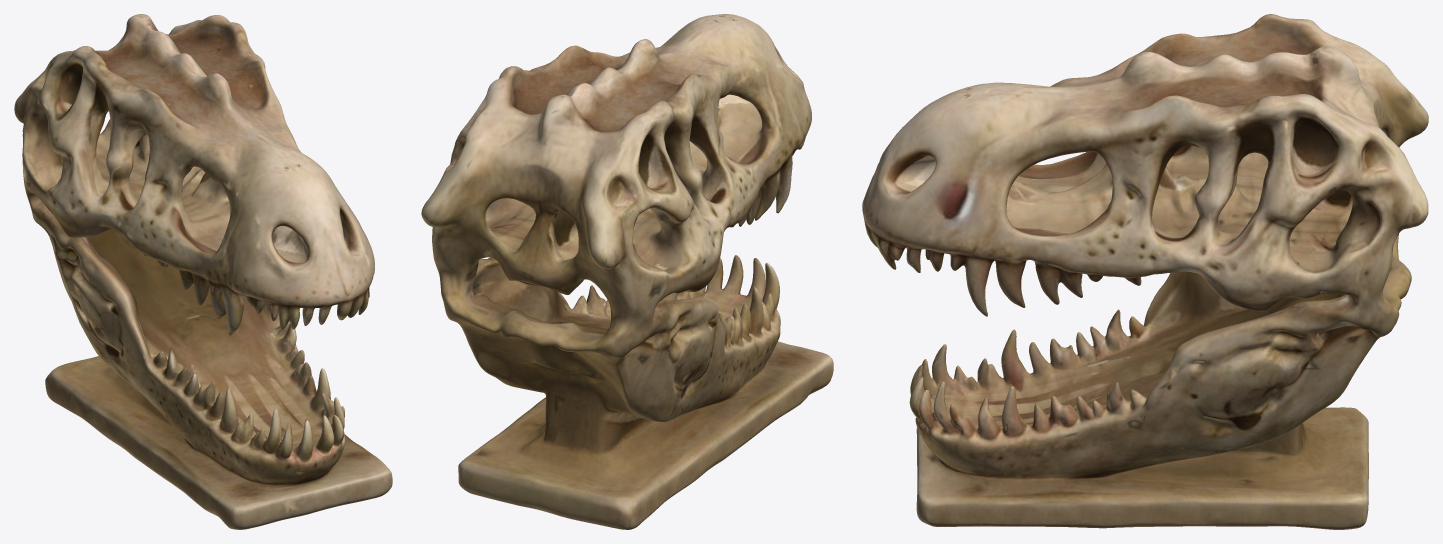
Rendered from fossil.glb.
3 renders of one model, left to right at view 1: azimuth 30°, elevation 25°; view 2: azimuth 150°, elevation 25°; view 3: azimuth 270°, elevation 25°, orthographic. The views are drawn at different scales.
Size of the model in its own units: 1.06 by 1.71 by 2.
1 material, 1 textured.
